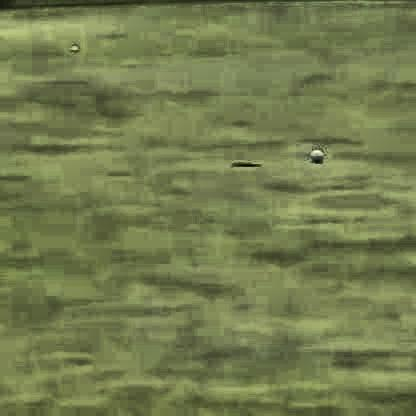golfball: (307, 145, 320, 158)
